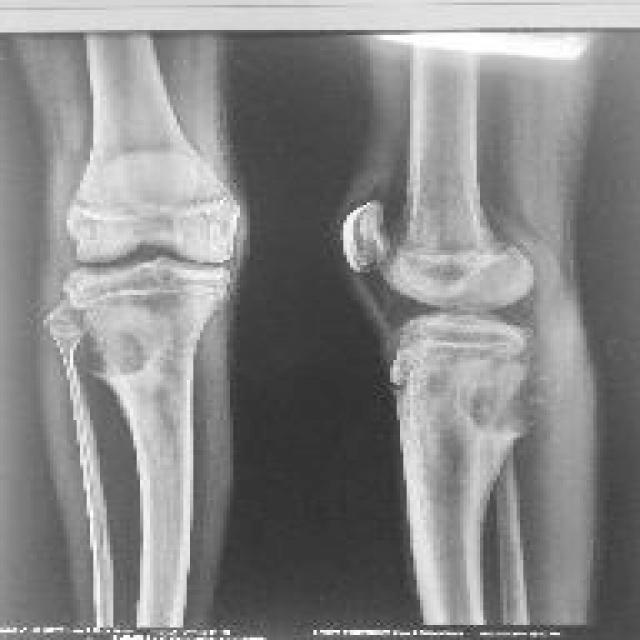bone-cancer: (435, 321, 527, 451), (71, 300, 182, 383)
